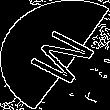M_SE: (14, 22, 96, 88)
